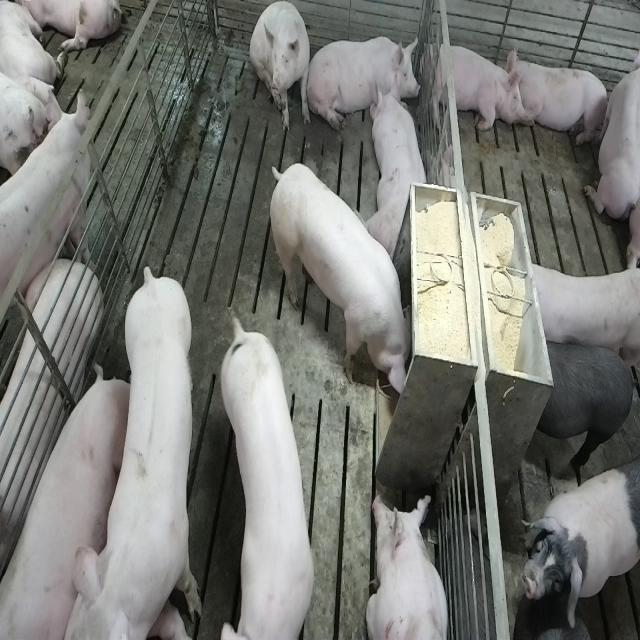Feeding: (265, 161, 411, 397)
Lateral_lying: (0, 369, 124, 640)
Sitting: (250, 1, 312, 136)
Standing: (79, 258, 205, 636), (220, 314, 320, 635), (0, 94, 90, 338), (519, 465, 637, 618), (531, 334, 638, 475), (520, 256, 638, 371)
Sternal_lying: (366, 489, 450, 640), (370, 80, 430, 262), (312, 30, 418, 131), (509, 52, 611, 150), (584, 38, 637, 223), (426, 36, 522, 135)
